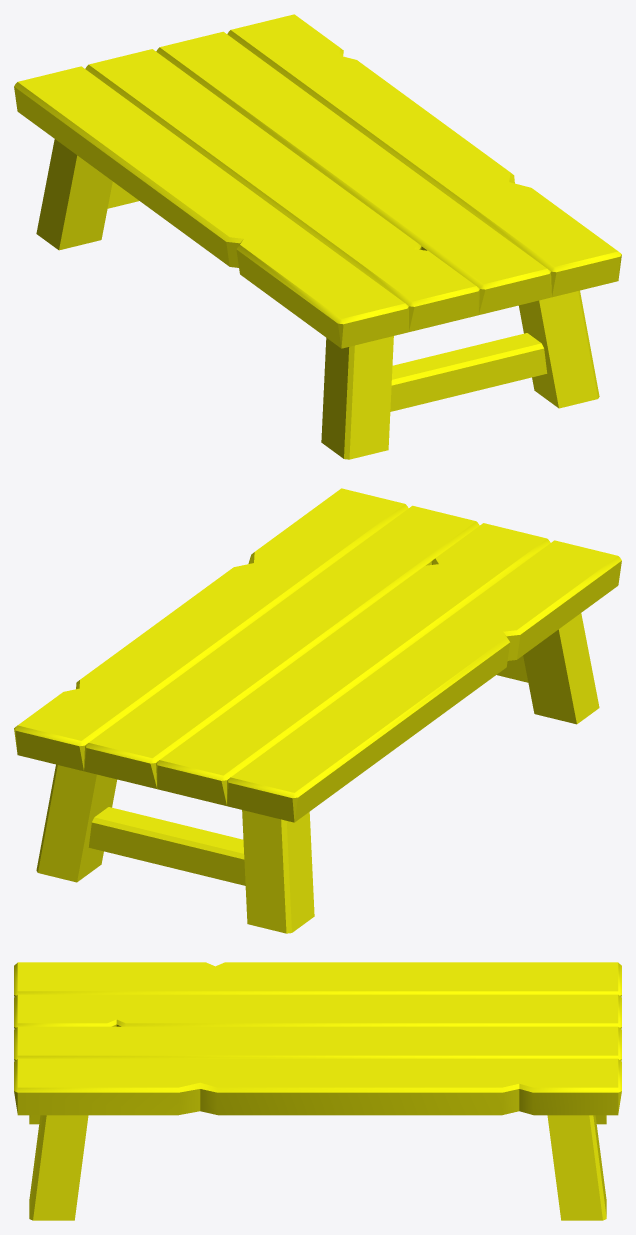
Rendered from kaykit-table-long.glb.
The picture shows the model from 3 angles, top to bottom: view 1: azimuth 30°, elevation 25°; view 2: azimuth 150°, elevation 25°; view 3: azimuth 270°, elevation 25°; orthographic projection. The views are drawn at different scales.
Visible parts, largest first — view 1: table_long; view 2: table_long; view 3: table_long.
Part boxes in pixels (box(x1,y1,x2,y2)): table_long: box(14, 14, 621, 459); table_long: box(14, 488, 621, 933); table_long: box(14, 962, 621, 1220).
Bounding box in the file's own units: 2 × 1 × 4.
